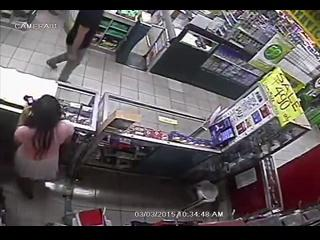Normal: (13, 95, 76, 200), (44, 10, 104, 84)
